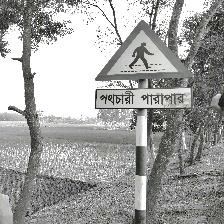Pedestrian-crossing: (94, 19, 194, 110)
